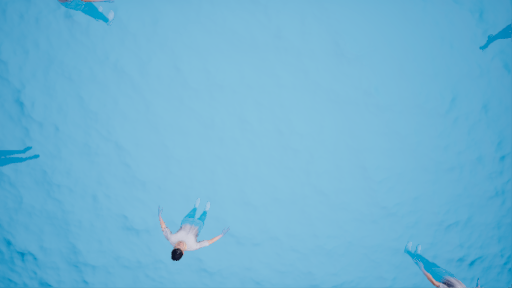person: (152, 195, 230, 261)
